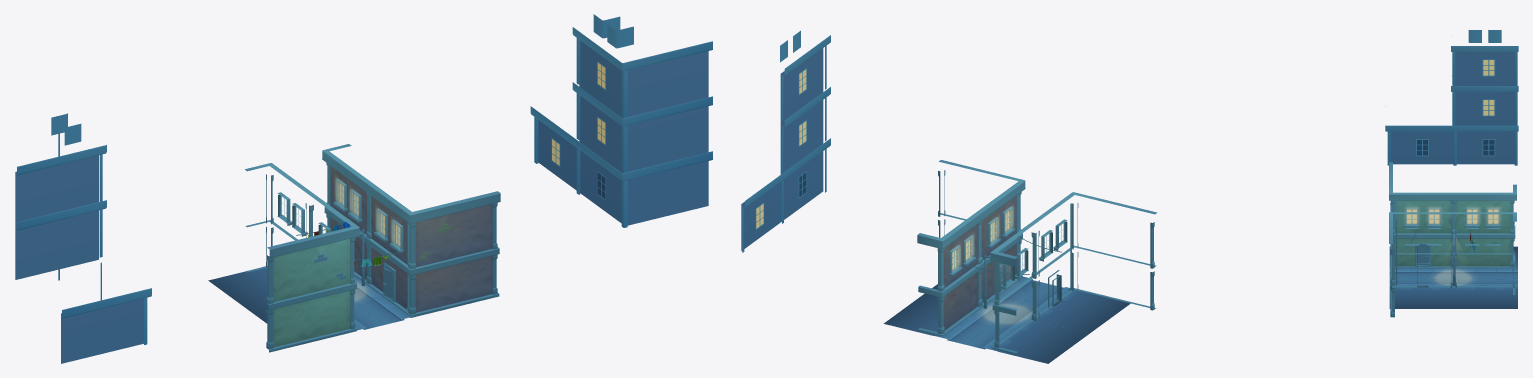
File: UrbanBuilding04.prefab.glb
The picture shows the model from 3 angles, left to right: view 1: azimuth 30°, elevation 25°; view 2: azimuth 150°, elevation 25°; view 3: azimuth 270°, elevation 25°; orthographic projection. The views are drawn at different scales.
Parts seen in each view (by area): view 1: FarBackBuilding02, Apartments01, Apartments04, UrbanBuilding04, Road02; view 2: FarBackBuilding02, Apartments01, Road02, Apartments04, UrbanBuilding04, LightPool; view 3: FarBackBuilding02, Apartments04, Road02, UrbanBuilding04, Apartments01, LightPool, LightGlowPlane (3), LightGlowPlane (1), LightGlowPlane (2), LightGlowPlane.
Part boxes in pixels (x1,y1,x2,y2): FarBackBuilding02: (15, 14, 712, 363); Apartments01: (322, 144, 500, 317); Apartments04: (245, 163, 359, 352); UrbanBuilding04: (253, 285, 471, 345); Road02: (208, 266, 366, 312); FarBackBuilding02: (741, 30, 830, 252); Apartments01: (917, 160, 1025, 336); Road02: (883, 293, 1089, 363); Apartments04: (990, 192, 1156, 354); UrbanBuilding04: (932, 276, 1130, 333); LightPool: (982, 304, 1031, 324); FarBackBuilding02: (1385, 30, 1518, 165); Apartments04: (1389, 162, 1516, 268); Road02: (1453, 246, 1517, 308); UrbanBuilding04: (1389, 247, 1453, 308); Apartments01: (1389, 212, 1516, 317); LightPool: (1434, 269, 1471, 285); LightGlowPlane (3): (1486, 207, 1500, 224); LightGlowPlane (1): (1427, 207, 1441, 224); LightGlowPlane (2): (1466, 207, 1479, 224); LightGlowPlane: (1405, 207, 1418, 224).
Size of the model in its own units: 76.34 by 26.28 by 18.69.
Materials: 6 (5 with a texture image).
